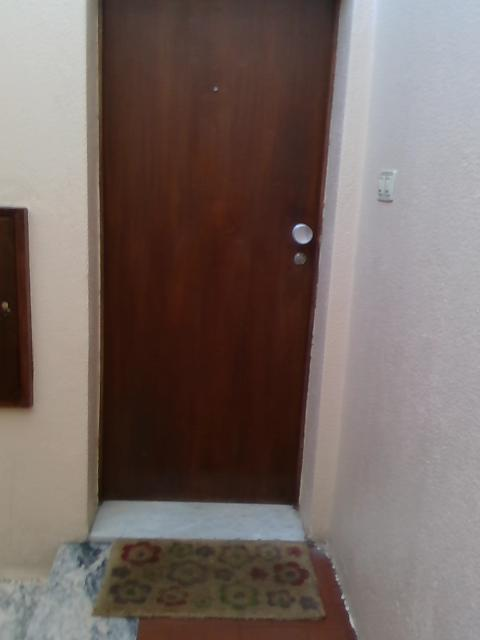door: (99, 1, 339, 502)
